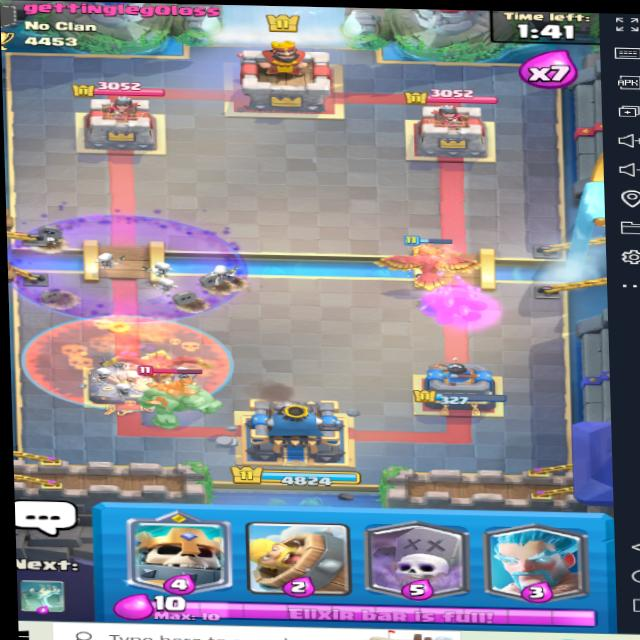golem: (117, 359, 225, 425)
